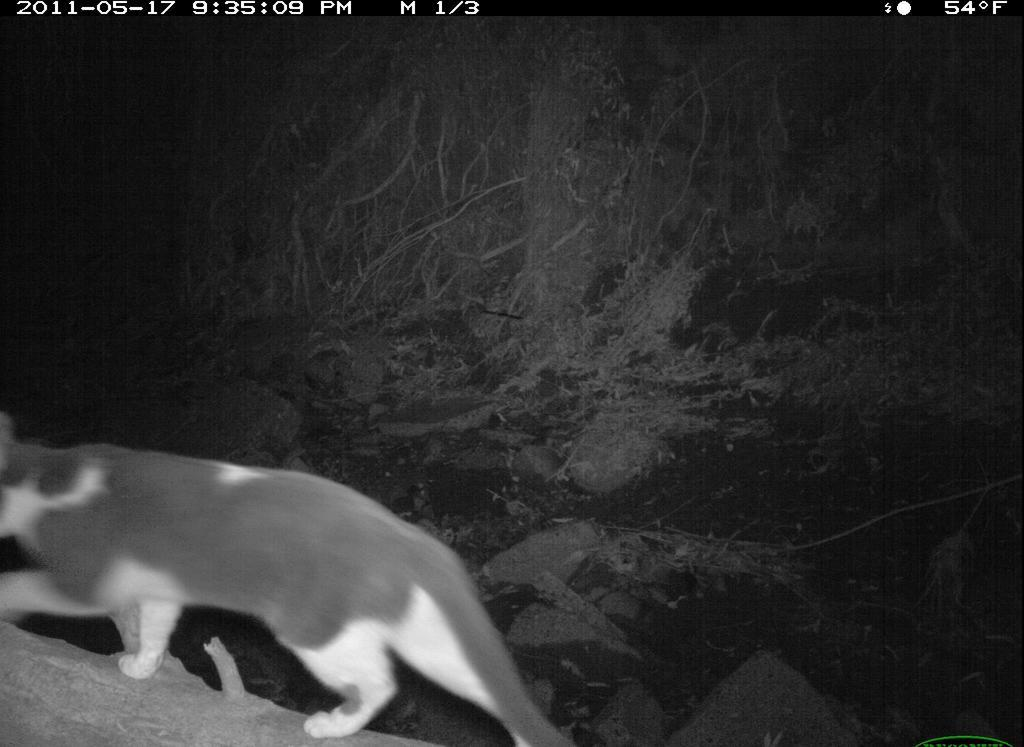cat: (2, 410, 592, 747)
